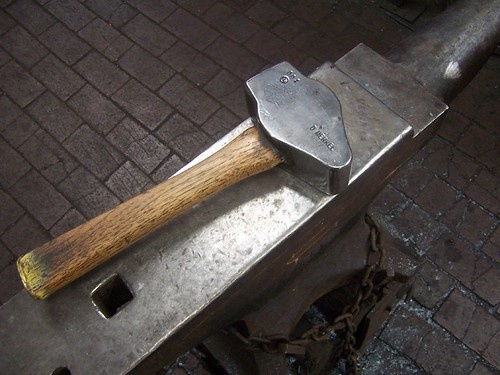hammer: (21, 61, 351, 291)
